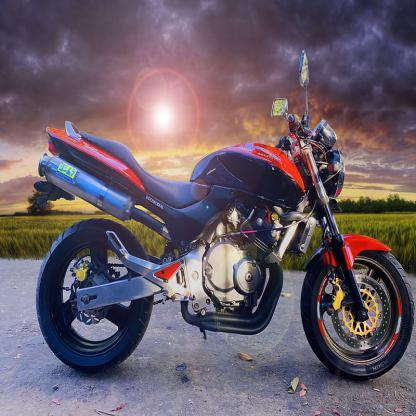Motorcycle: (25, 48, 416, 383)
